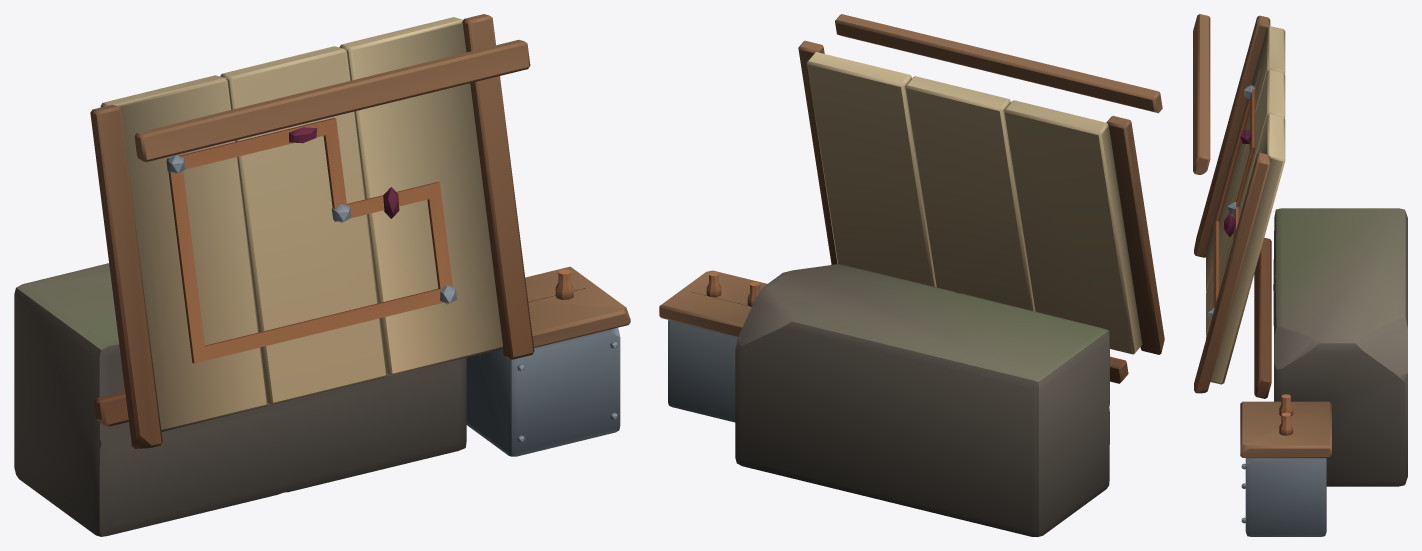
The model's file is ruins-board-v2.glb.
3 renders of one model, left to right at view 1: azimuth 30°, elevation 25°; view 2: azimuth 150°, elevation 25°; view 3: azimuth 270°, elevation 25°, orthographic. The views are drawn at different scales.
Visible parts, largest first — view 1: 0_ruins_board; view 2: 0_ruins_board; view 3: 0_ruins_board.
Boxes of the visible parts, left/top/right/bottom form: 0_ruins_board: left=14, top=14, right=630, bottom=536; 0_ruins_board: left=659, top=14, right=1164, bottom=536; 0_ruins_board: left=1193, top=14, right=1407, bottom=536.
Bounding box in the file's own units: 1.69 × 1.37 × 0.7942.
